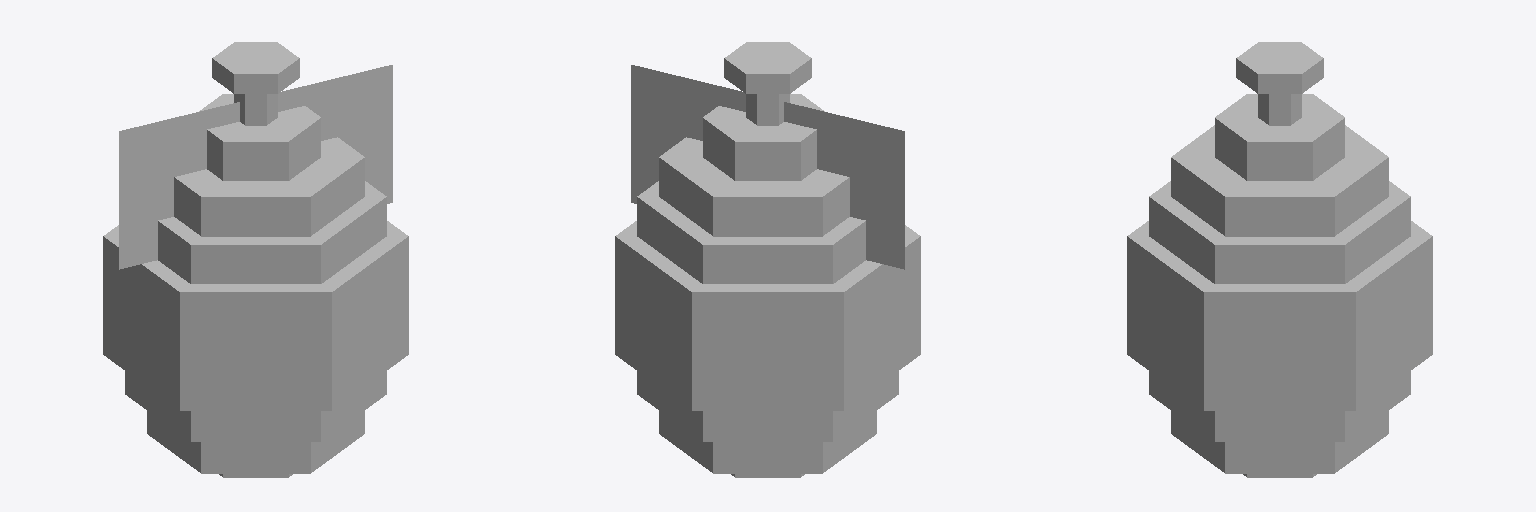
Rendered from water_jug.obj.
The picture shows the model from 3 angles: view 1: azimuth 30°, elevation 25°; view 2: azimuth 150°, elevation 25°; view 3: azimuth 270°, elevation 25°; orthographic projection.
Parts seen in each view (by area): view 1: middle2, middle1, middle3, handle1, handle2, top1, bottom2, cap, top2; view 2: middle2, middle1, middle3, handle1, handle2, top1, bottom2, cap, top2; view 3: middle2, middle1, middle3, top1, bottom2, cap, top2.
Part boxes in pixels (x1,y1,x2,y2): middle2: (103, 221, 408, 410); middle1: (125, 181, 386, 441); middle3: (174, 137, 364, 236); handle1: (119, 102, 239, 269); handle2: (278, 65, 392, 203); top1: (199, 94, 320, 180); bottom2: (147, 411, 364, 473); cap: (212, 42, 299, 93); top2: (234, 94, 277, 125); middle2: (615, 221, 920, 410); middle1: (637, 181, 898, 441); middle3: (659, 137, 849, 236); handle1: (784, 102, 904, 269); handle2: (631, 65, 745, 203); top1: (703, 94, 824, 180); bottom2: (659, 411, 876, 473); cap: (724, 42, 811, 93); top2: (746, 94, 789, 125); middle2: (1127, 221, 1432, 410); middle1: (1149, 181, 1410, 441); middle3: (1171, 125, 1388, 236); top1: (1215, 94, 1344, 180); bottom2: (1171, 411, 1388, 473); cap: (1236, 42, 1323, 93); top2: (1258, 94, 1301, 125).
Bounding box in the file's own units: 0.4531 × 0.625 × 0.4375.